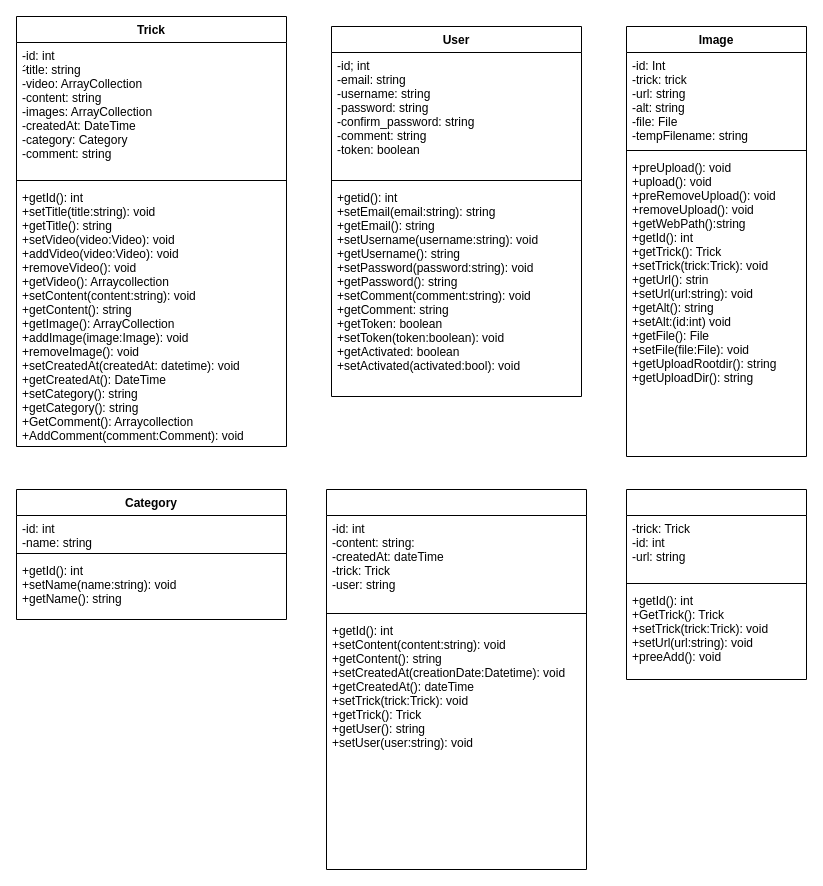
This 823x886 diagram has some shape labels left out. Each missing label, with the box of its shape:
Comment: (326, 488, 586, 870)
Video: (626, 488, 806, 680)
